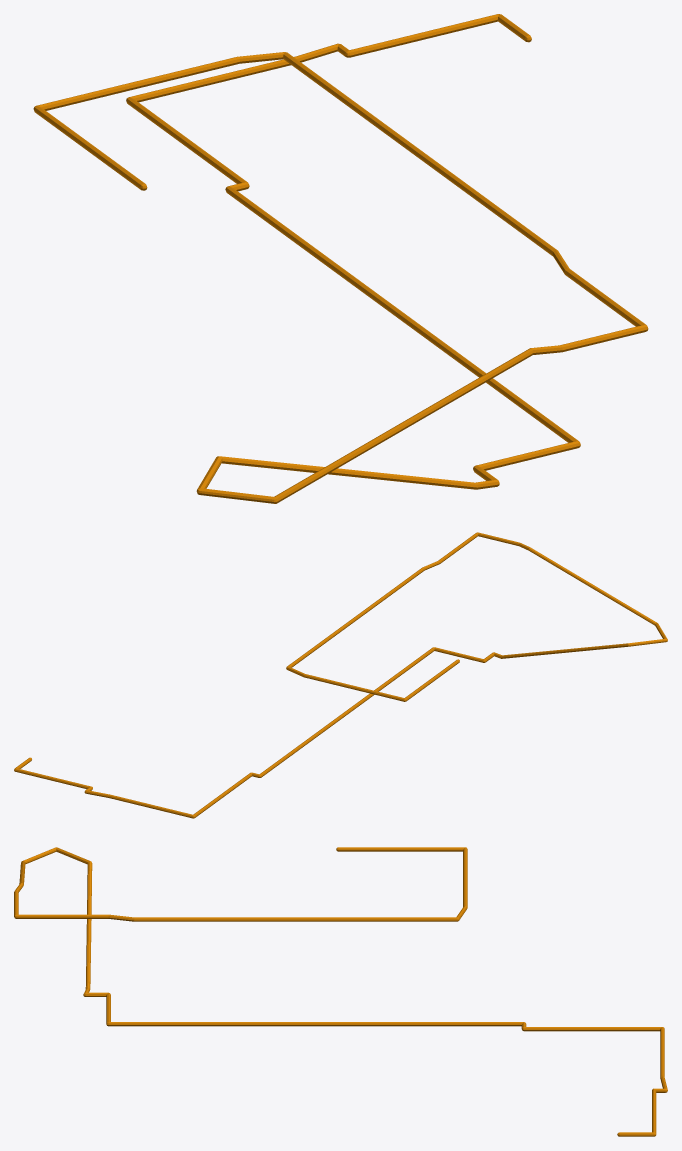
The picture shows the model from 3 angles, top to bottom: view 1: azimuth 30°, elevation 25°; view 2: azimuth 150°, elevation 25°; view 3: azimuth 270°, elevation 25°; orthographic projection. The views are drawn at different scales.
Size of the model in its own units: 2407 by 520 by 2834.
